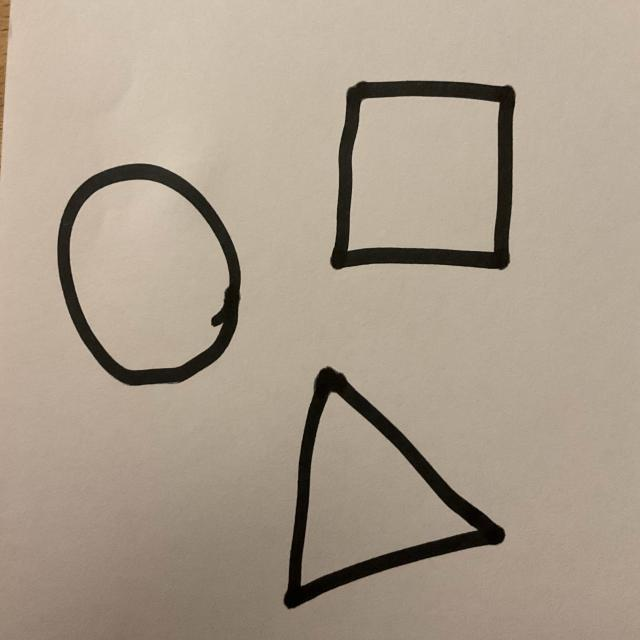Dreieck: (282, 369, 506, 611)
Kreis: (55, 164, 243, 390)
Quadrat: (329, 81, 517, 272)
